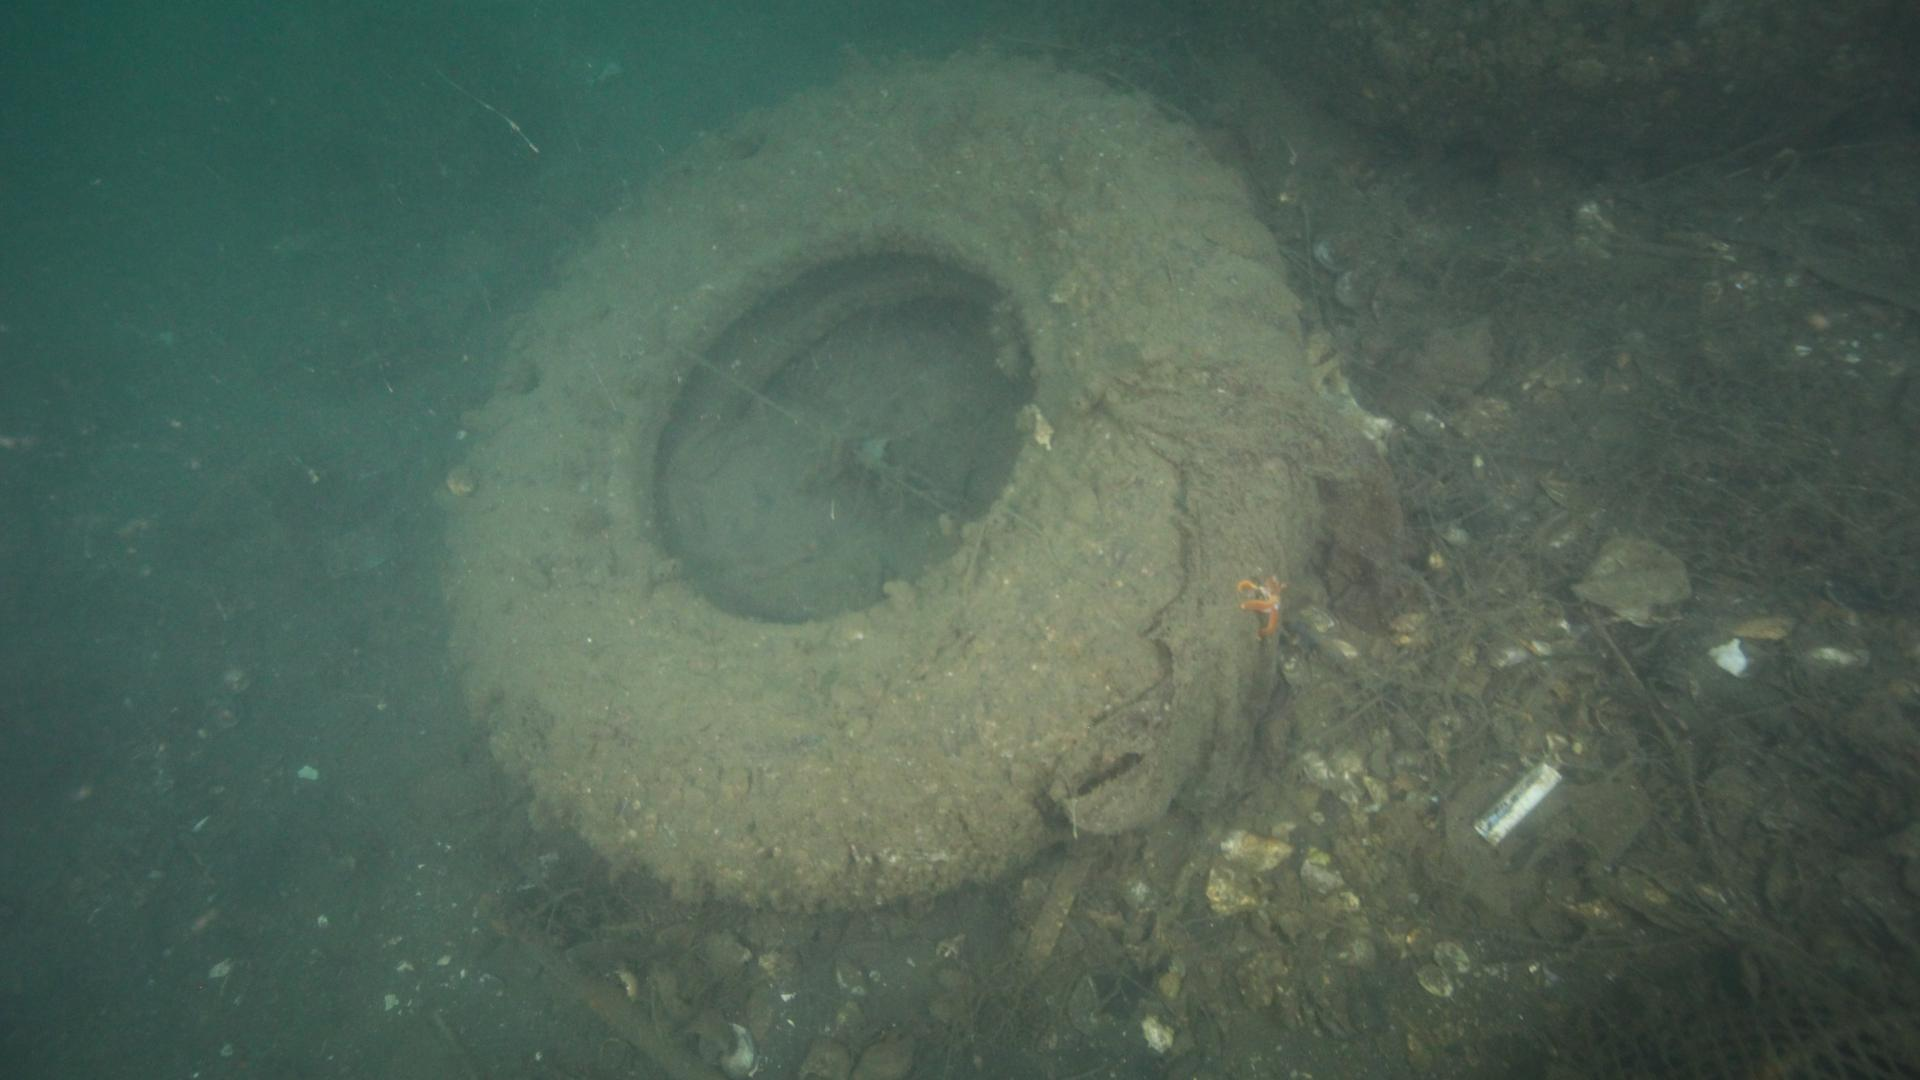tire: (433, 47, 1319, 919)
